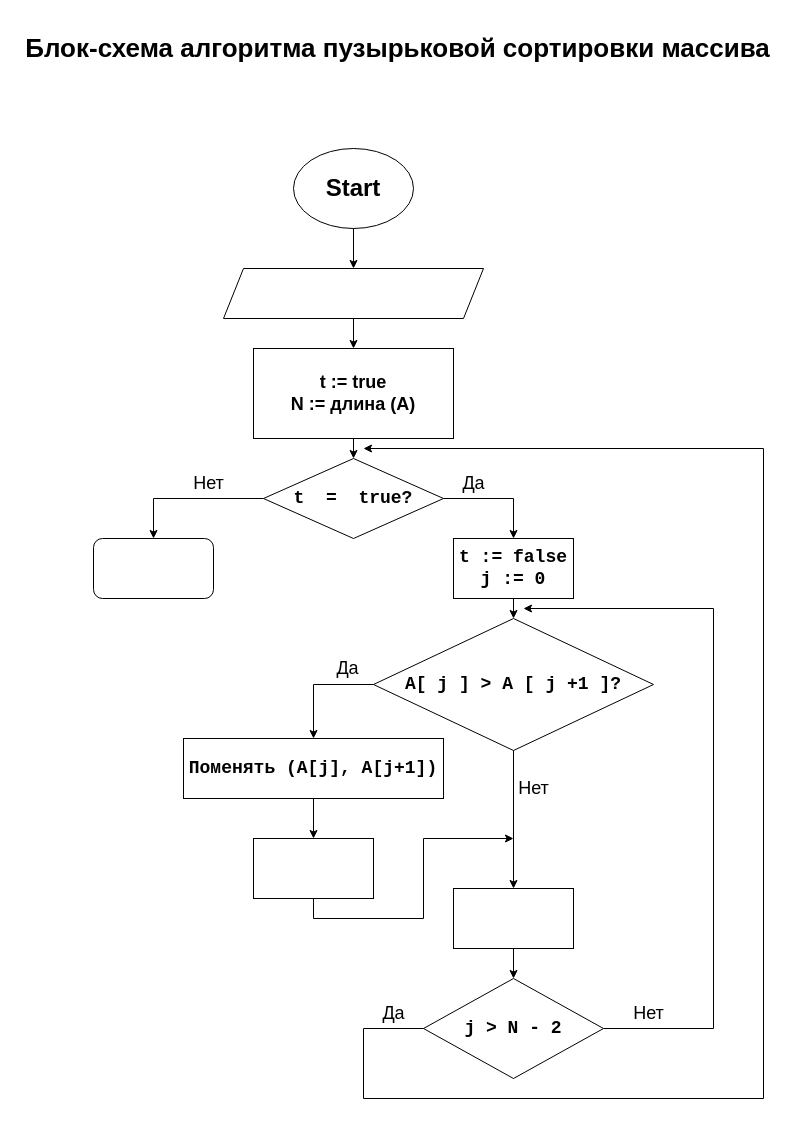
Image size: 794x1124. Some labels were removed from this diagram. Each missing label, with the centre of its shape:
j := j+1: pixel 513 918
t := true: pixel 313 868
Ввод: массив A: pixel 353 293
Конец: pixel 153 568
